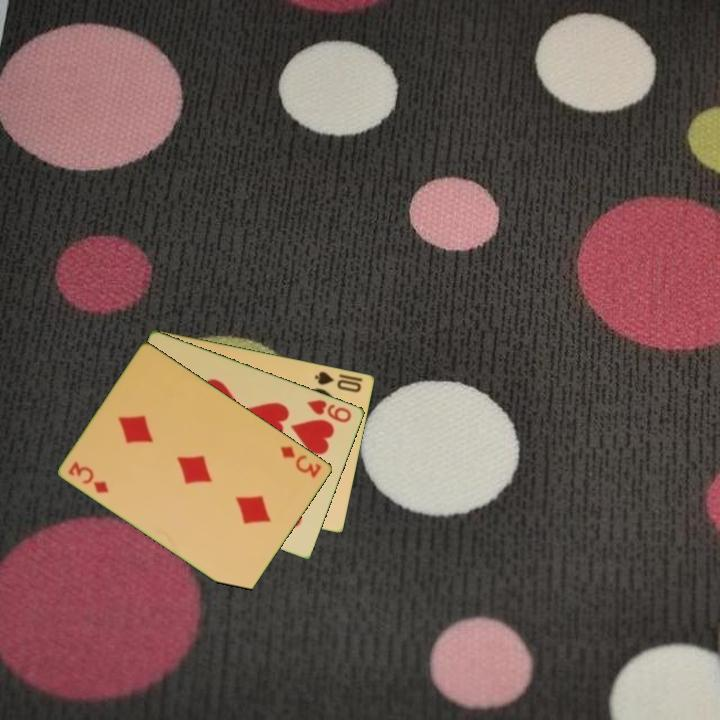10s: (311, 368, 364, 395)
3d: (65, 457, 112, 496), (277, 442, 325, 480)
9h: (304, 396, 355, 425)
